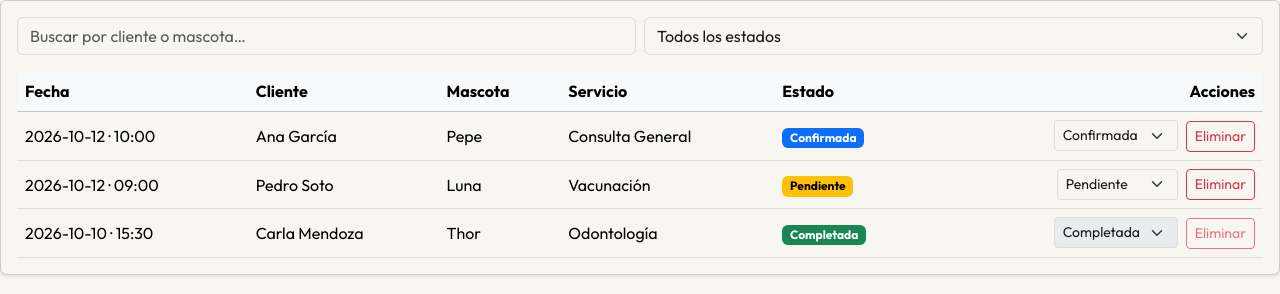
Test: CitasTable (estado local, eventos y mocks) › filtra por texto y muestra mensaje cuando no hay coincidencias
Type "rocky" into the search field named "Buscar cita" at {"x": 326, "y": 36}, box [17,17,636,55]
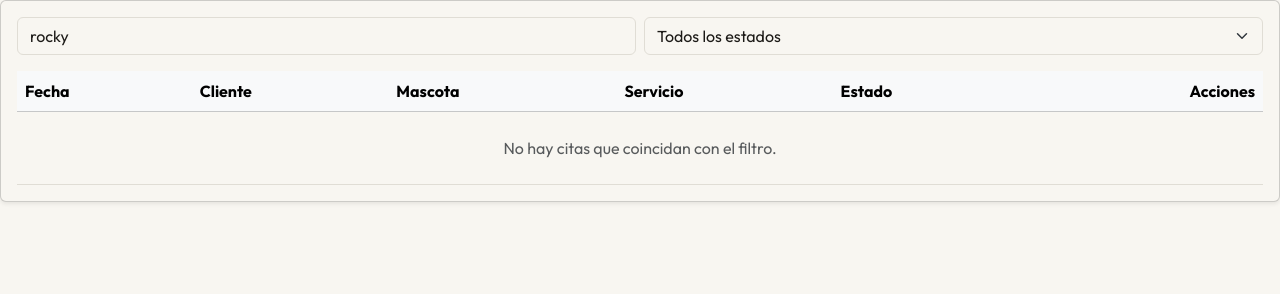
Expected: the row "No hay citas que coincidan con el filtro." is shown, [17,112,1263,184]
